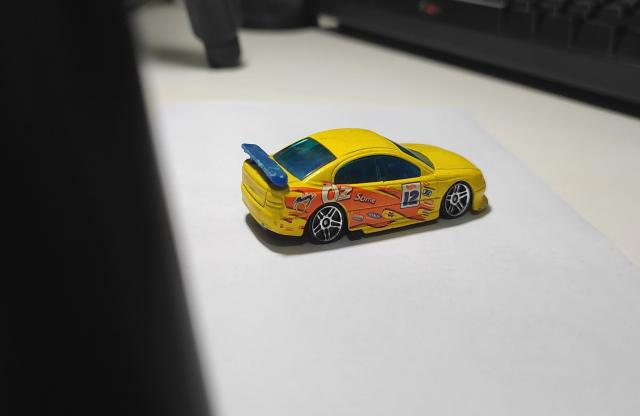02_OZSOME: (241, 128, 489, 248)
